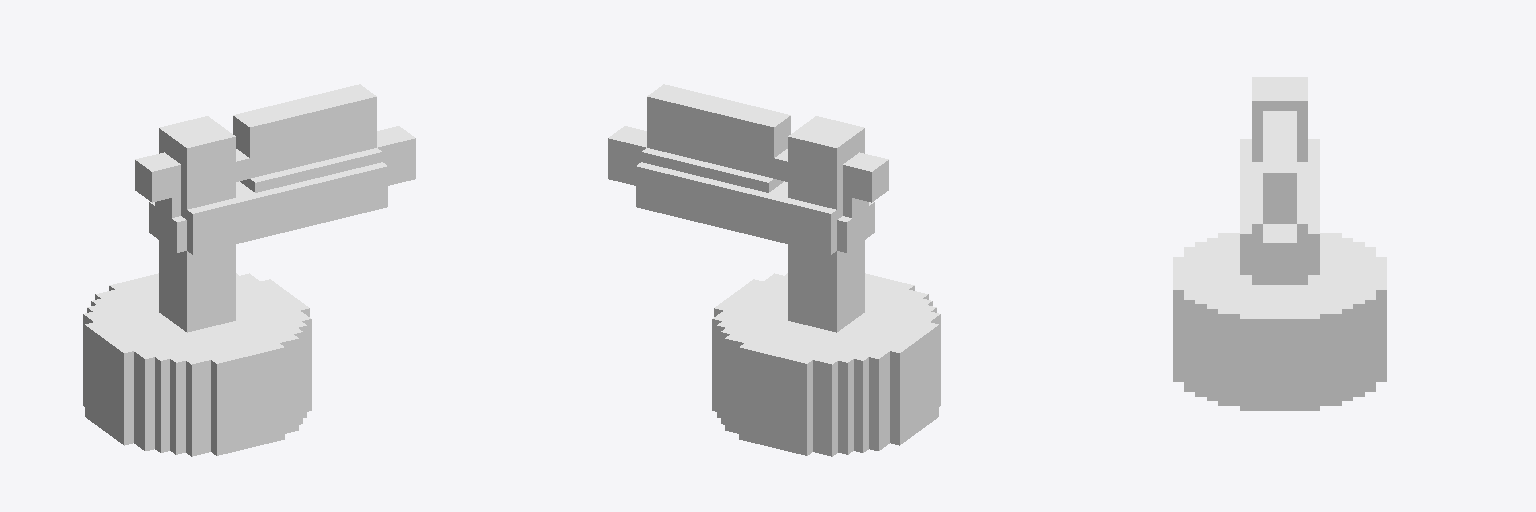
The model's file is Arma-amoebadora.obj.
3 renders of one model, left to right at view 1: azimuth 30°, elevation 25°; view 2: azimuth 150°, elevation 25°; view 3: azimuth 270°, elevation 25°, orthographic.
Bounding box in the file's own units: 31 × 27 × 19.